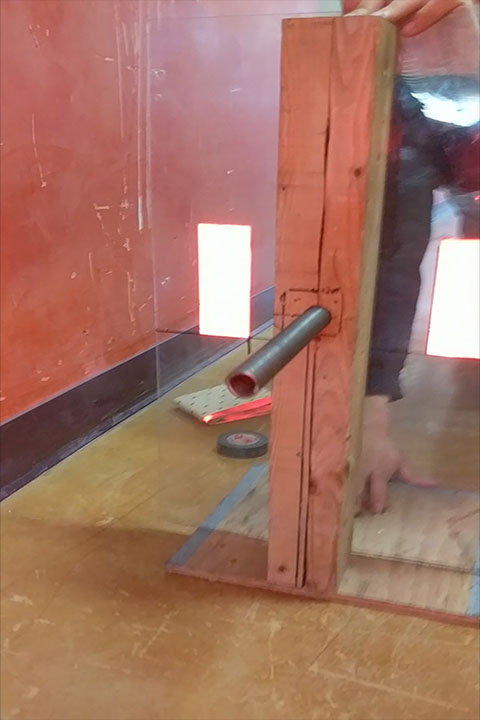gear: (424, 237, 480, 359), (196, 222, 251, 339)
